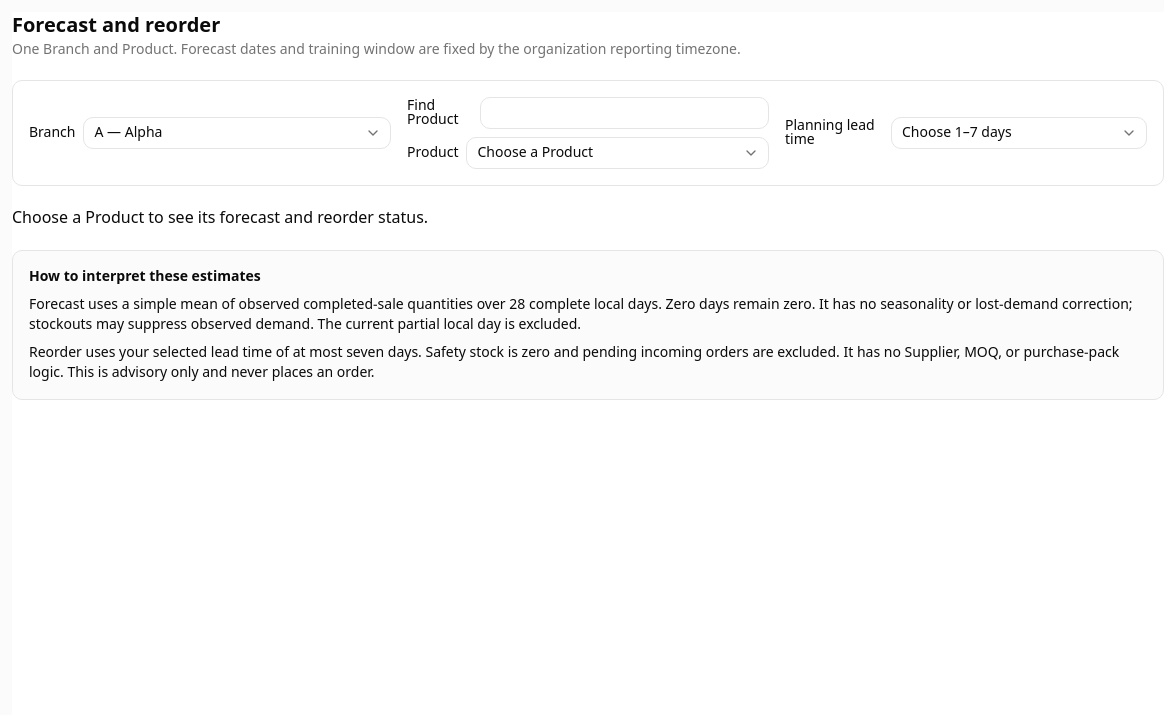
Test case: Forecast and reorder view › shows positive recommendations and a separate authorization error
The width and height of the screenshot is (1164, 715).
Select "ONE — One" in the dropdown labelled "Product" at [618, 153], box [466,137,769,169]
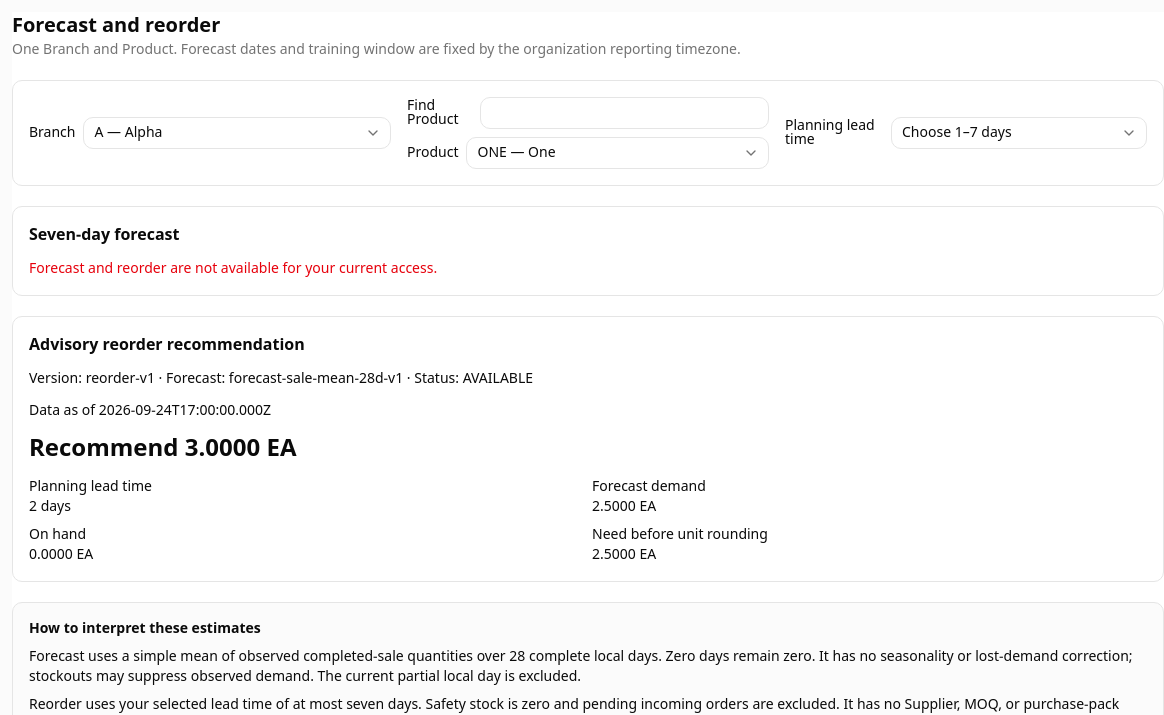
expect the text "Recommend 3.0000 EA" is shown: met, box [29,431,296,467]
expect the message reads "Forecast and reorder are not available for your current access.": met, box [29,258,437,279]
